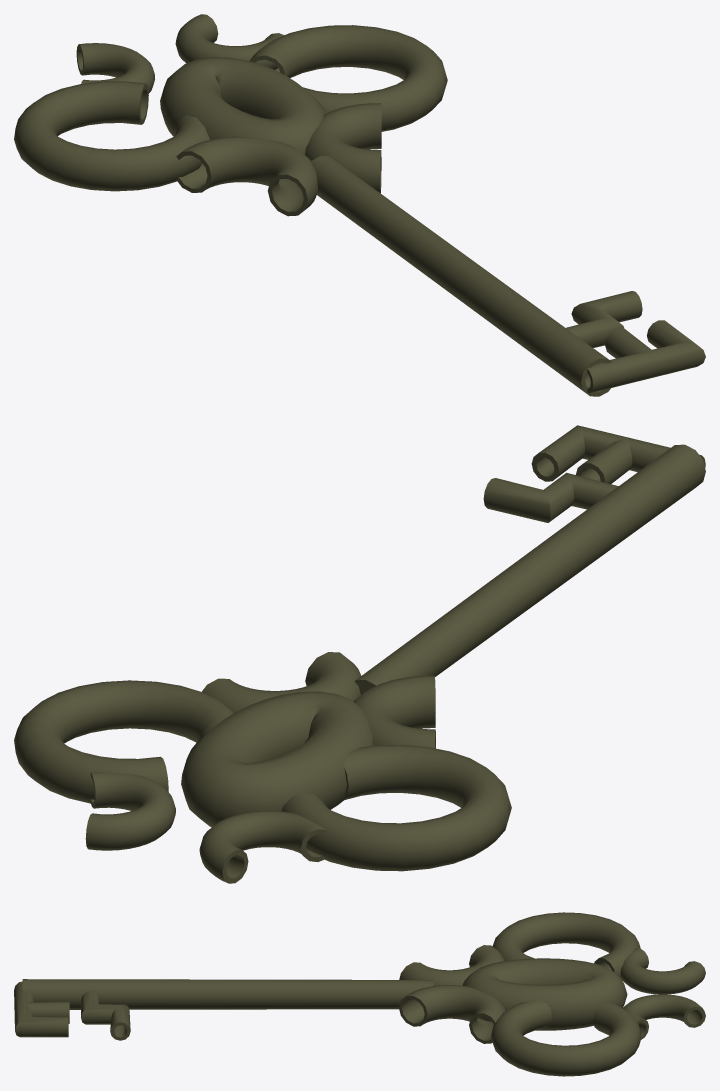
Rendered from keyTexture.fbx.
3 renders of one model, top to bottom at view 1: azimuth 30°, elevation 25°; view 2: azimuth 150°, elevation 25°; view 3: azimuth 270°, elevation 25°, orthographic. The views are drawn at different scales.
Parts seen in each view (by area): view 1: Ellipse001; view 2: Ellipse001; view 3: Ellipse001.
Boxes of the visible parts, x1=… form: Ellipse001: x1=14, y1=14, x2=705, y2=396; Ellipse001: x1=14, y1=425, x2=705, y2=883; Ellipse001: x1=14, y1=912, x2=705, y2=1076.
Size of the model in its own units: 5.95 by 0.792 by 11.89.
1 material, 1 textured.
